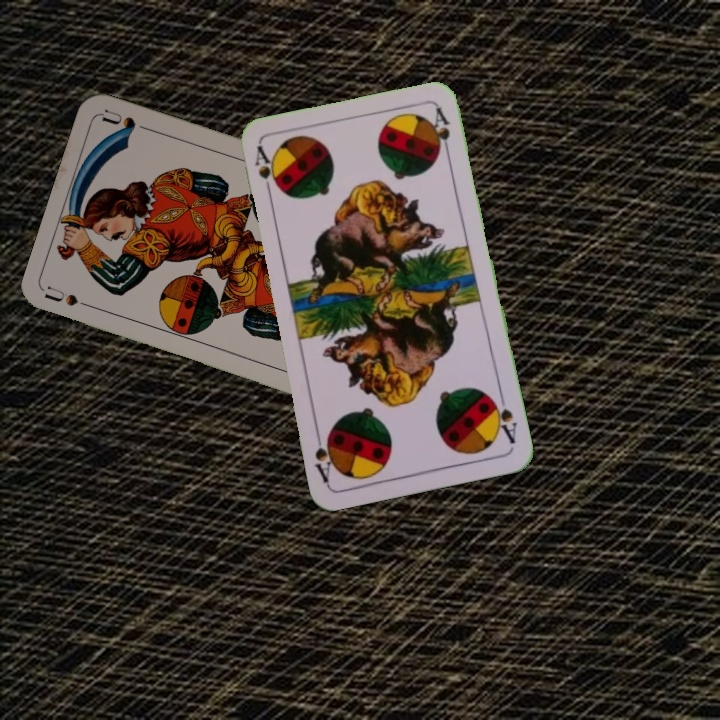SA: (486, 388, 520, 447), (250, 143, 280, 201)
SU: (42, 282, 101, 313)
